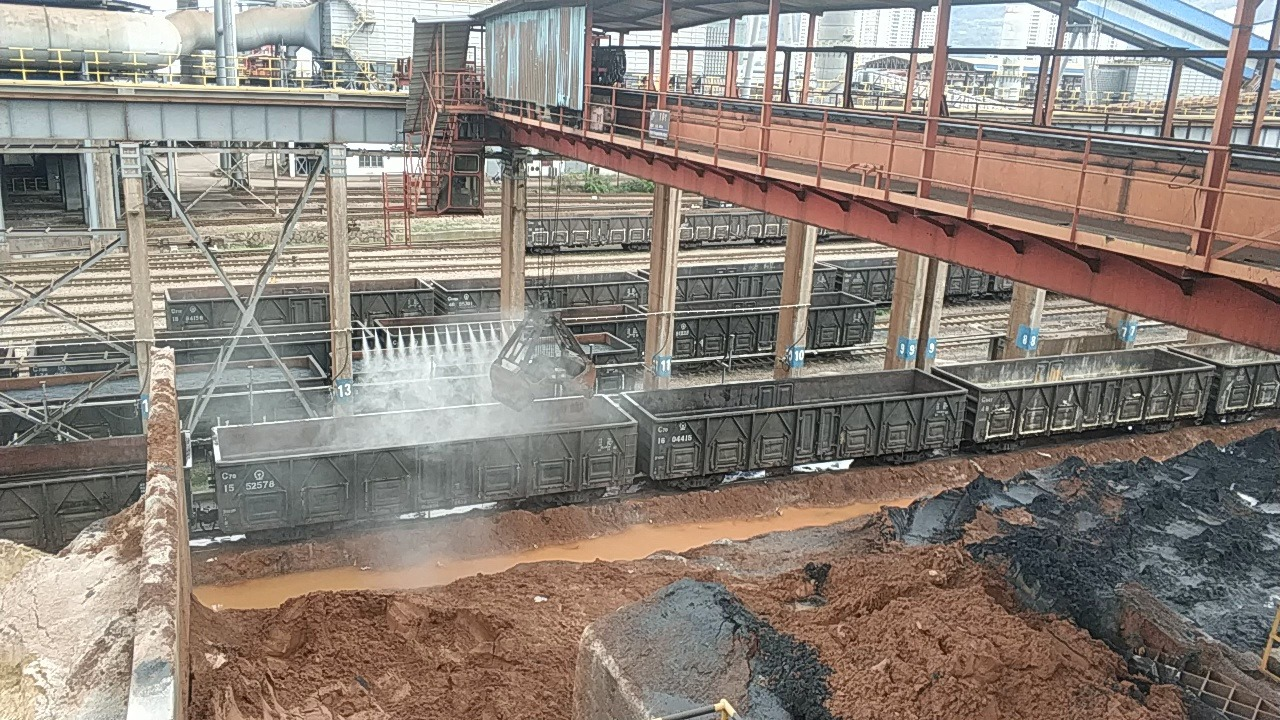dust: (325, 301, 645, 576), (488, 303, 600, 423)
